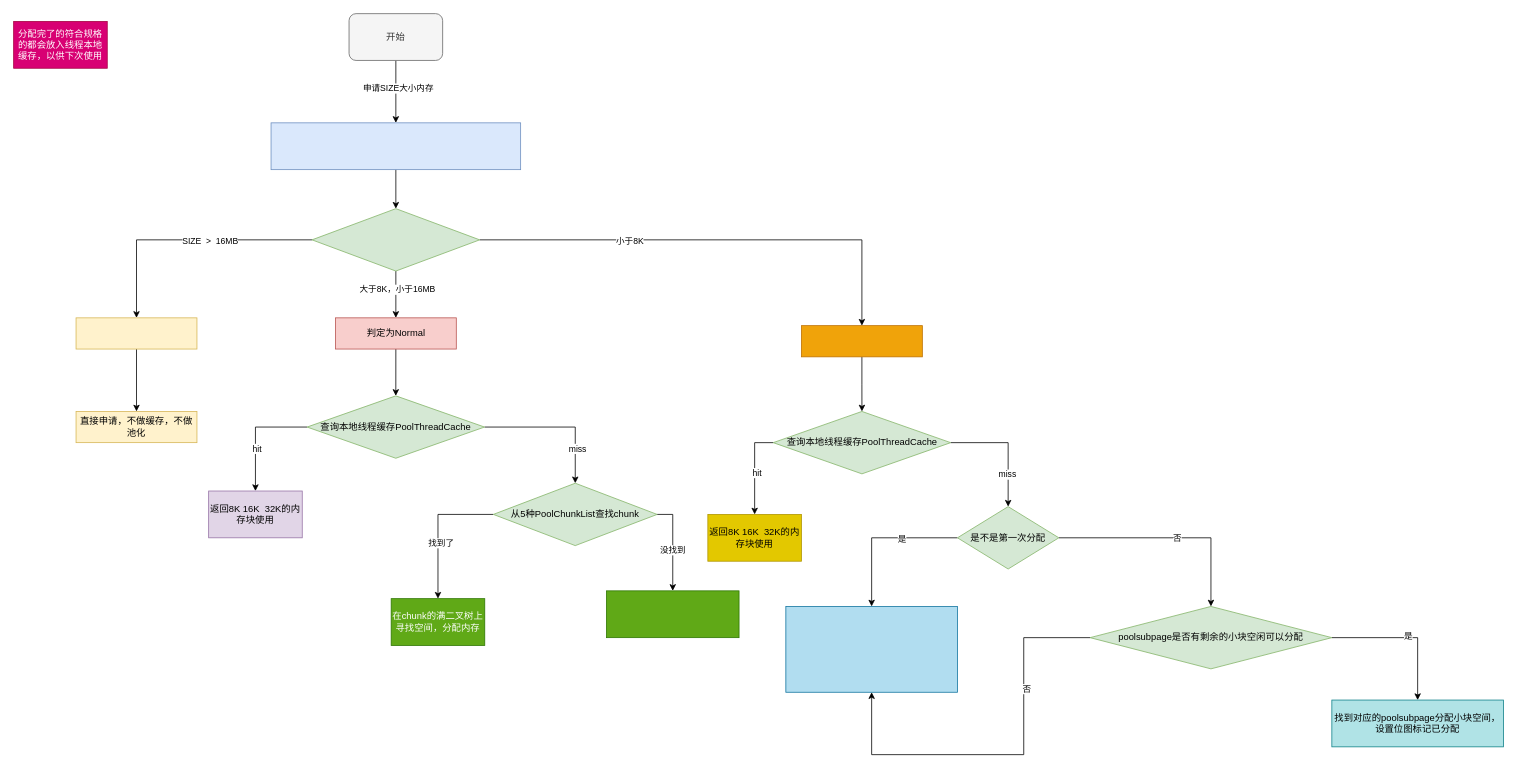
Some shapes in this 1517 by 775 pixel diagram are drawn without their labels. Each missing label, with the box of its shape:
1、创建一个新的chunk 2、加入到qinit的pollchunklist中 3、然后从该chunk的二叉树上寻找空间，分配内存: (606, 590, 739, 638)
ByteBufAllocator. DEFAULT .buffer( SIZE );: (270, 122, 521, 170)
判定为Huge: (75, 317, 197, 349)
判定为Tiny/Small: (801, 325, 922, 357)
查找chunk。获取一个page，找到poolsubpage[]中对应的下标，创建poolsubpage对象，按照规格切分小块，然后分配，设置bitmap位图: (785, 606, 957, 692)
规格判定: (311, 208, 480, 271)
